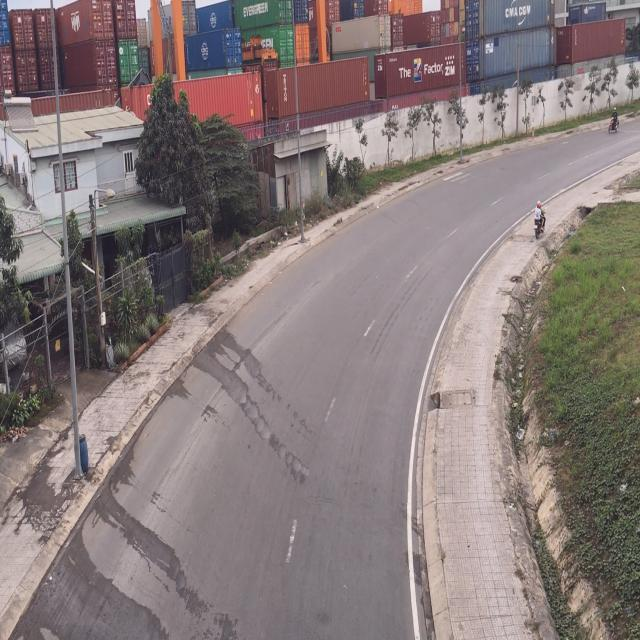motorbike: (606, 98, 620, 136), (535, 202, 548, 240)
